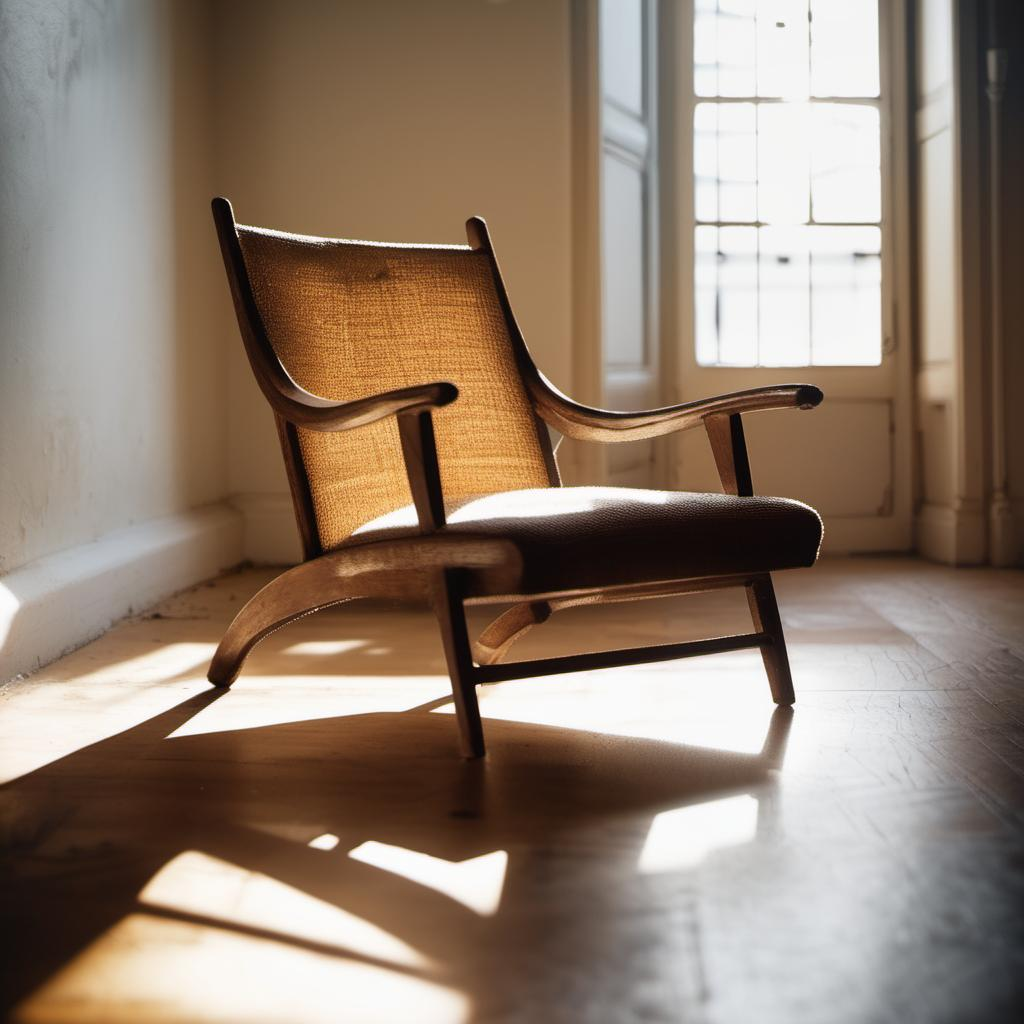chair_new: (194, 183, 823, 749)
